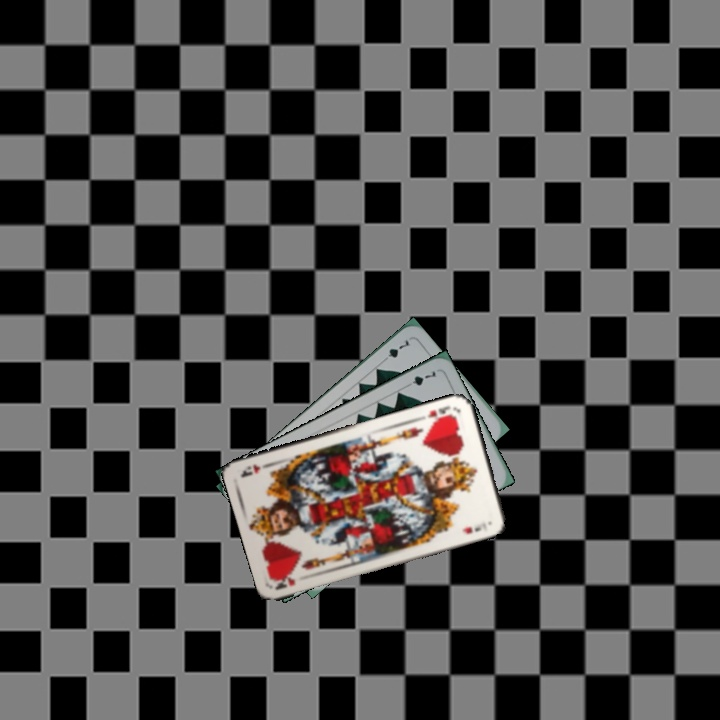G7: (378, 336, 413, 365), (401, 367, 439, 390)
HK: (417, 402, 459, 425), (270, 573, 298, 593)
